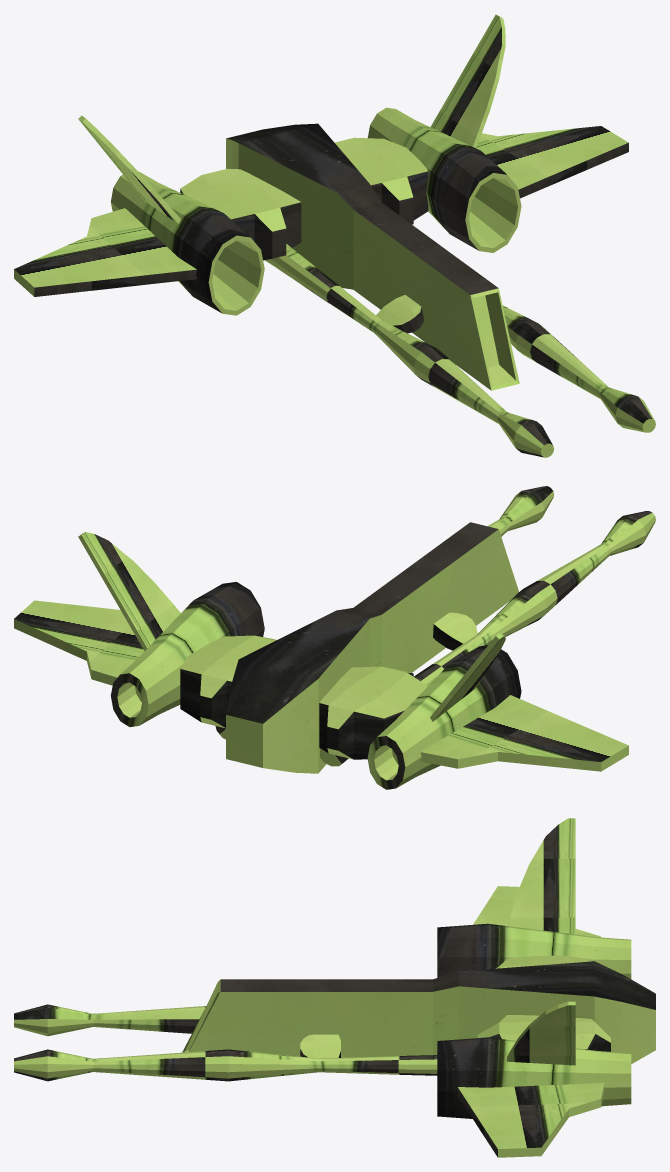
Rendered from SpaceShip01.fbx.
3 renders of one model, top to bottom at view 1: azimuth 30°, elevation 25°; view 2: azimuth 150°, elevation 25°; view 3: azimuth 270°, elevation 25°, orthographic. The views are drawn at different scales.
Parts seen in each view (by area): view 1: Body.003; view 2: Body.003; view 3: Body.003.
Boxes of the visible parts, x1=… form: Body.003: x1=14, y1=14, x2=655, y2=457; Body.003: x1=14, y1=486, x2=655, y2=789; Body.003: x1=14, y1=818, x2=655, y2=1157.
Size of the model in its own units: 775 by 213 by 800.
